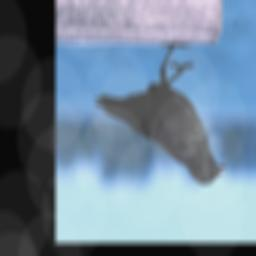Crow: (93, 41, 228, 190)
